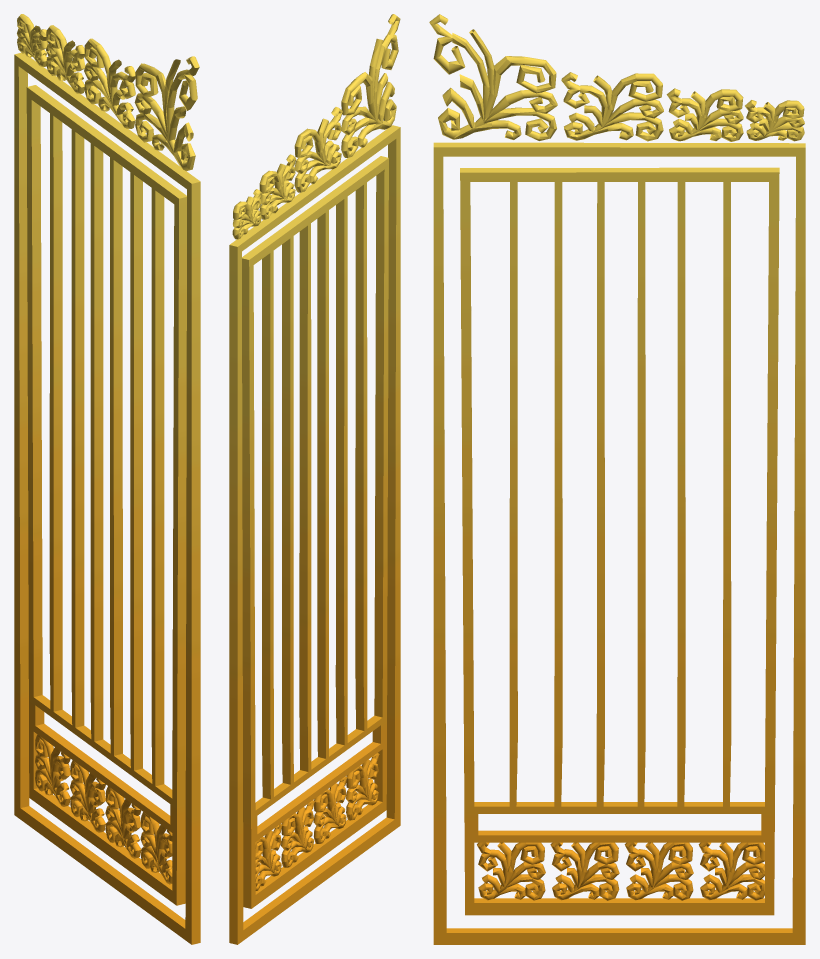
File: gate_R.fbx
The picture shows the model from 3 angles, left to right: view 1: azimuth 30°, elevation 25°; view 2: azimuth 150°, elevation 25°; view 3: azimuth 270°, elevation 25°; orthographic projection. The views are drawn at different scales.
Parts seen in each view (by area): view 1: polySurface15; view 2: polySurface15; view 3: polySurface15.
Boxes of the visible parts, x1,y1,x2,y2 form: polySurface15: [14, 14, 200, 944]; polySurface15: [229, 14, 400, 944]; polySurface15: [429, 14, 805, 944].
Bounding box in the file's own units: 11.6 × 1090 × 401.
